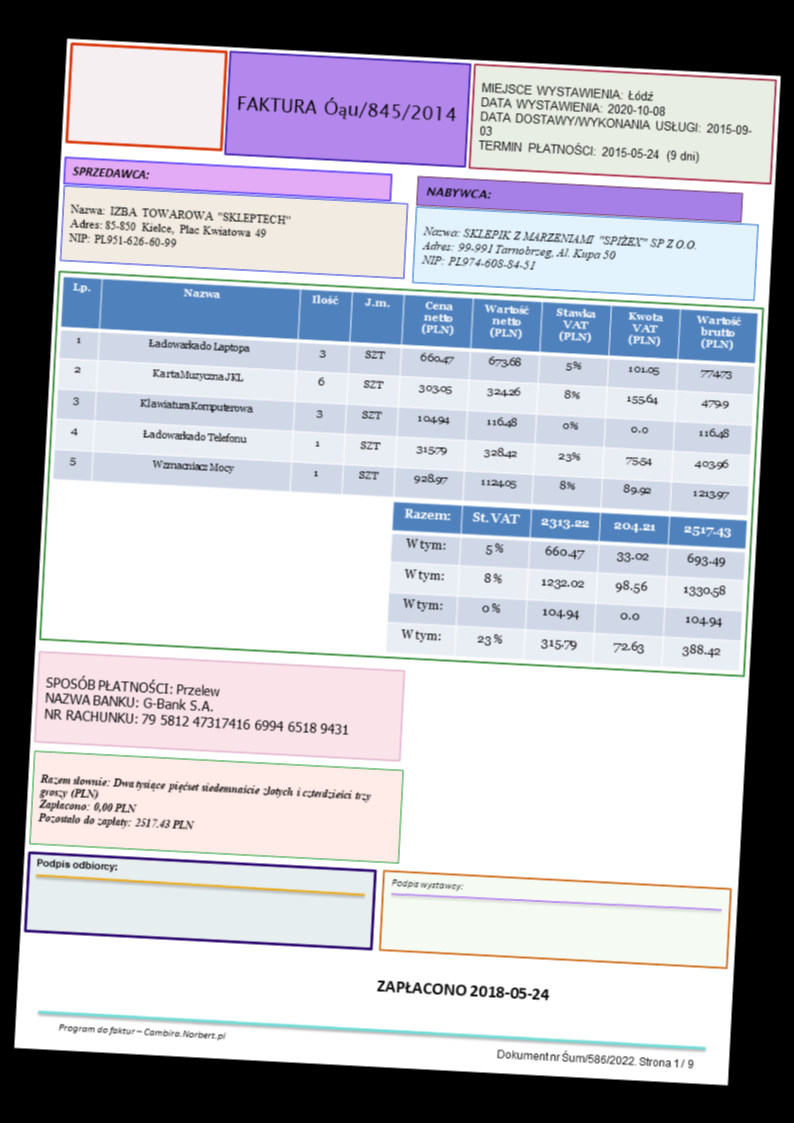Table: (51, 273, 756, 514), (384, 499, 748, 673)
TextBox: (474, 77, 756, 169), (34, 768, 374, 842), (41, 670, 354, 741), (419, 221, 699, 279), (65, 198, 293, 258), (233, 88, 458, 128), (374, 974, 552, 1004), (493, 1044, 694, 1070), (55, 1019, 227, 1042), (33, 854, 121, 875), (70, 162, 151, 183), (388, 872, 463, 894), (421, 181, 493, 203)
